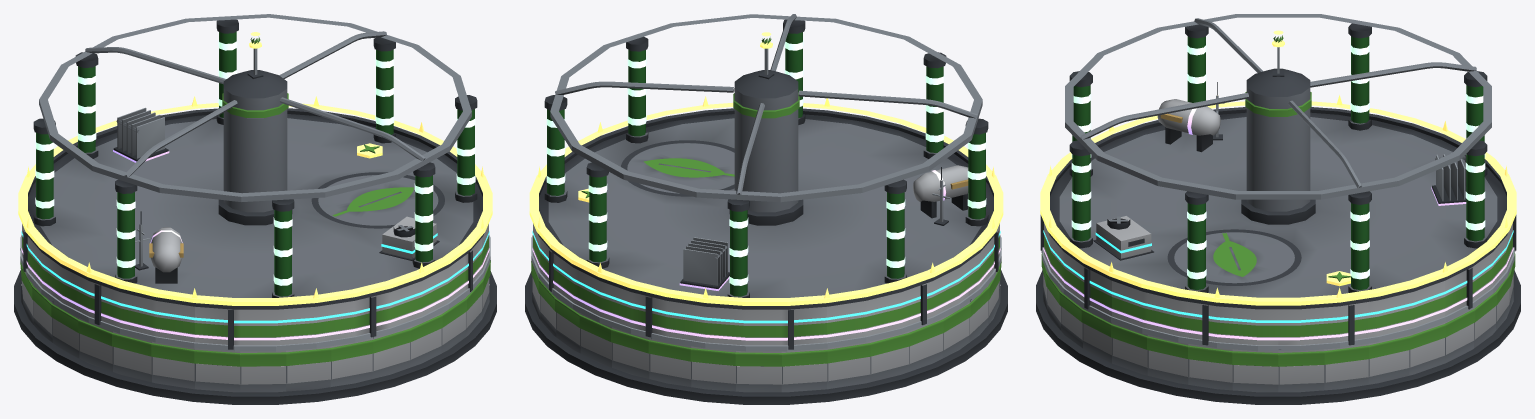
File: algae_bioreactor_m_far.glb
3 views of the same model, side by side, from view 1: azimuth 30°, elevation 25°; view 2: azimuth 150°, elevation 25°; view 3: azimuth 270°, elevation 25° (orthographic).
Parts seen in each view (by area): view 1: Roof, Base, L5, L4, L2, L3; view 2: Roof, Base, L5, L4, L2, L3; view 3: Roof, Base, L5, L4, L2, L3.
Part boxes in pixels (x1=…): Roof: x1=22, y1=14, x2=488, y2=349; Base: x1=14, y1=248, x2=496, y2=404; L5: x1=18, y1=32, x2=492, y2=305; L4: x1=21, y1=107, x2=489, y2=340; L2: x1=20, y1=211, x2=490, y2=351; L3: x1=21, y1=216, x2=489, y2=323; Roof: x1=533, y1=14, x2=999, y2=349; Base: x1=525, y1=261, x2=1007, y2=404; L5: x1=529, y1=32, x2=1003, y2=305; L4: x1=532, y1=165, x2=1000, y2=340; L2: x1=531, y1=167, x2=1001, y2=351; L3: x1=532, y1=231, x2=1000, y2=323; Roof: x1=1040, y1=14, x2=1516, y2=345; Base: x1=1036, y1=251, x2=1520, y2=404; L5: x1=1040, y1=30, x2=1516, y2=305; L4: x1=1043, y1=99, x2=1513, y2=340; L2: x1=1042, y1=82, x2=1514, y2=351; L3: x1=1043, y1=216, x2=1513, y2=322.
Bounding box in the file's own units: 13.25 × 8.14 × 13.25.
